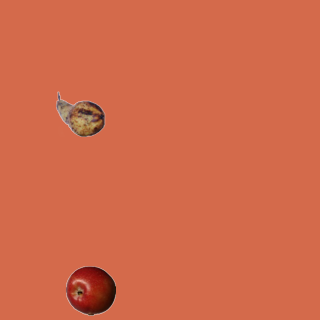Apple Braeburn: (65, 265, 115, 315)
Pear Abate: (55, 89, 105, 139)
